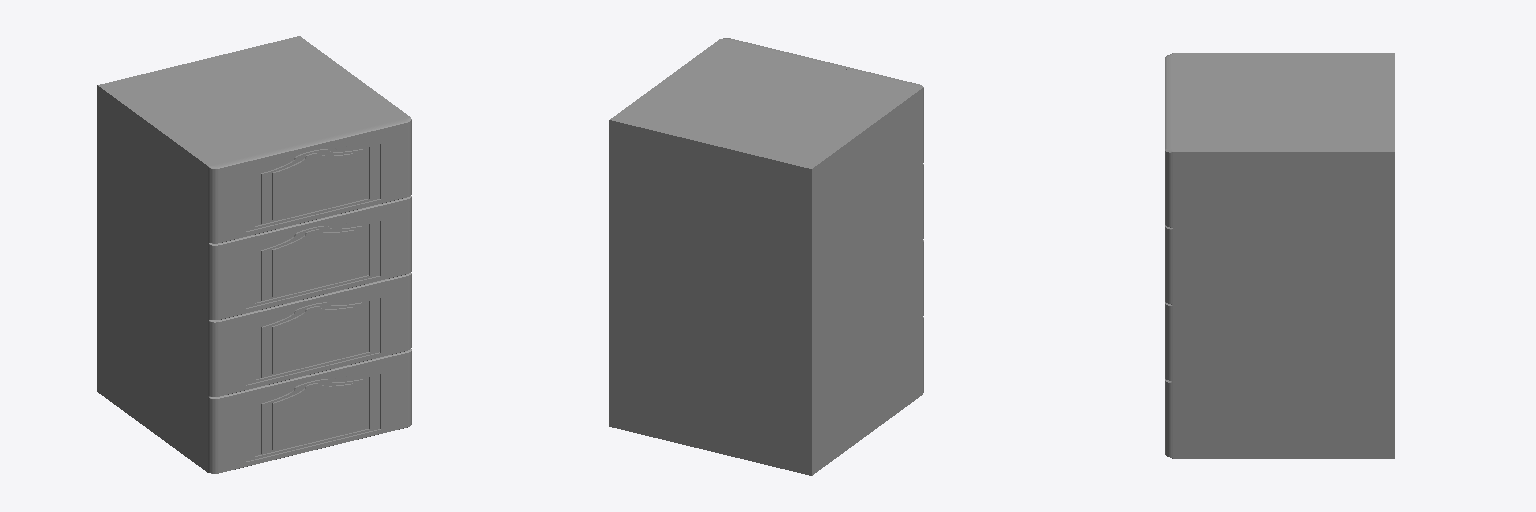
Rendered from drawer-pack-600.obj.
The picture shows the model from 3 angles: view 1: azimuth 30°, elevation 25°; view 2: azimuth 150°, elevation 25°; view 3: azimuth 270°, elevation 25°; orthographic projection.
Parts seen in each view (by area): view 1: Cube.002_Cube.004, Cube_Cube.002, Cube.006_Cube.005, Cube.004_Cube.000, Cube.003_Cube.008, Cube.005_Cube.001, Cube.001_Cube.003; view 2: Cube_Cube.002, Cube.002_Cube.004, Cube.001_Cube.003, Cube.006_Cube.005; view 3: Cube.001_Cube.003, Cube_Cube.002, Cube.006_Cube.005, Cube.002_Cube.004, Cube.004_Cube.000, Cube.005_Cube.001, Cube.003_Cube.008.
Part boxes in pixels (left/top/right/bottom): Cube.002_Cube.004: left=97, top=84, right=212, bottom=472; Cube_Cube.002: left=103, top=37, right=404, bottom=164; Cube.006_Cube.005: left=208, top=117, right=411, bottom=243; Cube.004_Cube.000: left=208, top=273, right=411, bottom=396; Cube.003_Cube.008: left=208, top=349, right=411, bottom=473; Cube.005_Cube.001: left=208, top=196, right=411, bottom=319; Cube.001_Cube.003: left=295, top=36, right=409, bottom=117; Cube_Cube.002: left=615, top=40, right=916, bottom=474; Cube.002_Cube.004: left=807, top=87, right=922, bottom=475; Cube.001_Cube.003: left=609, top=39, right=724, bottom=427; Cube.006_Cube.005: left=723, top=38, right=923, bottom=162; Cube.001_Cube.003: left=1173, top=149, right=1394, bottom=458; Cube_Cube.002: left=1173, top=56, right=1394, bottom=148; Cube.006_Cube.005: left=1165, top=53, right=1172, bottom=227; Cube.002_Cube.004: left=1173, top=53, right=1394, bottom=55; Cube.004_Cube.000: left=1165, top=302, right=1172, bottom=381; Cube.005_Cube.001: left=1165, top=225, right=1172, bottom=304; Cube.003_Cube.008: left=1165, top=379, right=1172, bottom=458.
Size of the model in its own units: 120 by 174 by 118.